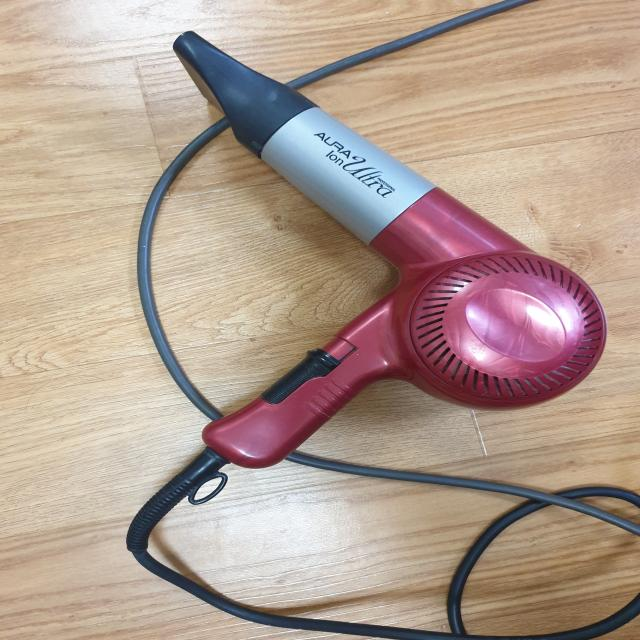dryer: (125, 29, 609, 552)
